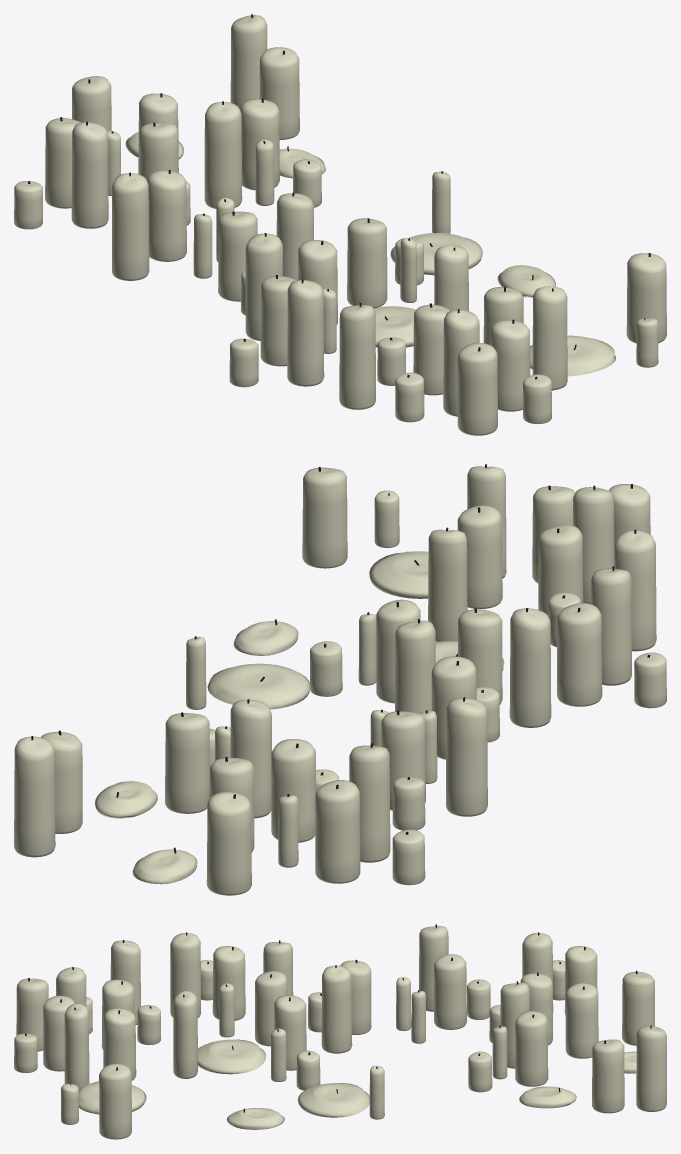
File: BigcandleGroup1.fbx
3 views of the same model, one above another, from view 1: azimuth 30°, elevation 25°; view 2: azimuth 150°, elevation 25°; view 3: azimuth 270°, elevation 25° (orthographic). The views are drawn at different scales.
Visible parts, largest first — view 1: CANDLEBIGTALL3.002, CANDLEBIGTALL3.006, CANDLEBIGTALL3.005, CANDLEBIGTALL3.007, CANDLEBIGTALL3.001, CANDLEBIG1.012, WICK_1, CANDLEBIG1.002, WICK3.001, CANDLEBIG1.004, CANDLEBIG1.007, CANDLEBIG1.015 (+33 smaller); view 2: CANDLEBIGTALL3.009, CANDLEBIGTALL3.002, CANDLEBIGTALL3.004, CANDLEBIG1.011, CANDLEBIG1.014, CANDLEBIG1.008, CANDLEBIG1.004, CANDLEBIG1.001, WICK3, CANDLEBIGTALL3.005, CANDLEBIGTALL3.006, WICK_1.001 (+31 smaller); view 3: CANDLEBIGTALL3.003, CANDLEBIGTALL3.009, CANDLEBIG1.001, CANDLEBIG1.004, CANDLEBIG1.002, CANDLEBIG1.009, CANDLEBIG1.015, WICK3, WICK4.001, CANDLEBIG1.014, WICK3.001, CANDLEBIGTALL3.005 (+35 smaller).
Part boxes in pixels (x1=…): CANDLEBIGTALL3.002: x1=112, y1=172, x2=149, y2=280; CANDLEBIGTALL3.006: x1=71, y1=121, x2=108, y2=228; CANDLEBIGTALL3.005: x1=287, y1=279, x2=324, y2=386; CANDLEBIGTALL3.007: x1=339, y1=303, x2=375, y2=409; CANDLEBIGTALL3.001: x1=204, y1=101, x2=242, y2=208; CANDLEBIG1.012: x1=457, y1=343, x2=497, y2=435; WICK_1: x1=347, y1=218, x2=387, y2=308; CANDLEBIG1.002: x1=147, y1=170, x2=186, y2=261; WICK3.001: x1=532, y1=286, x2=567, y2=390; CANDLEBIG1.004: x1=626, y1=253, x2=666, y2=343; CANDLEBIG1.007: x1=491, y1=319, x2=530, y2=411; CANDLEBIG1.015: x1=259, y1=47, x2=299, y2=139; CANDLEBIGTALL3.009: x1=14, y1=736, x2=55, y2=857; CANDLEBIGTALL3.002: x1=446, y1=697, x2=487, y2=816; CANDLEBIGTALL3.004: x1=509, y1=608, x2=551, y2=727; CANDLEBIG1.011: x1=315, y1=780, x2=360, y2=883; CANDLEBIG1.014: x1=206, y1=792, x2=251, y2=895; CANDLEBIG1.008: x1=557, y1=603, x2=602, y2=706; CANDLEBIG1.004: x1=302, y1=467, x2=347, y2=568; CANDLEBIG1.001: x1=165, y1=712, x2=209, y2=813; WICK3: x1=428, y1=527, x2=467, y2=641; CANDLEBIGTALL3.005: x1=591, y1=566, x2=631, y2=685; CANDLEBIGTALL3.006: x1=349, y1=743, x2=390, y2=862; WICK_1.001: x1=457, y1=505, x2=502, y2=608; CANDLEBIGTALL3.003: x1=321, y1=965, x2=352, y2=1053; CANDLEBIGTALL3.009: x1=636, y1=1025, x2=666, y2=1111; CANDLEBIG1.001: x1=515, y1=1011, x2=548, y2=1086; CANDLEBIG1.004: x1=99, y1=1063, x2=131, y2=1139; CANDLEBIG1.002: x1=434, y1=954, x2=466, y2=1029; CANDLEBIG1.009: x1=565, y1=983, x2=598, y2=1058; CANDLEBIG1.015: x1=592, y1=1039, x2=624, y2=1113; WICK3: x1=173, y1=991, x2=197, y2=1078; WICK4.001: x1=297, y1=1083, x2=369, y2=1117; CANDLEBIG1.014: x1=622, y1=970, x2=654, y2=1045; WICK3.001: x1=64, y1=1003, x2=89, y2=1089; CANDLEBIGTALL3.005: x1=170, y1=932, x2=201, y2=1017.
Size of the model in its own units: 1501 by 384 by 2760.
